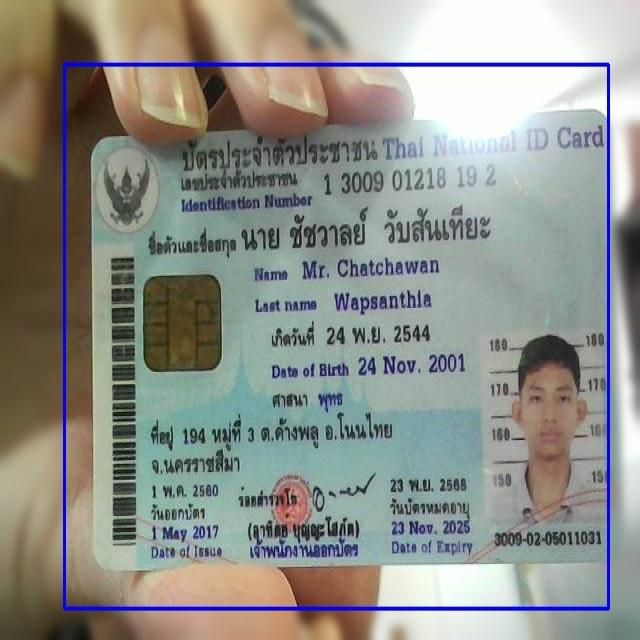Address_th: (151, 409, 400, 482)
Date_of_Birth: (356, 350, 468, 381)
Date_of_Expiry: (386, 516, 474, 539)
Date_of_Issue: (148, 522, 224, 544)
First_Name: (300, 252, 442, 285)
ID_Number: (321, 162, 500, 197)
Image: (483, 328, 606, 524)
Last_Name: (330, 288, 438, 317)
Thai_Name: (238, 201, 494, 250)
